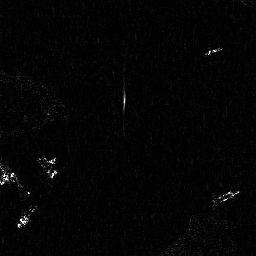ship: (205, 188, 244, 208), (35, 152, 58, 181), (18, 200, 39, 228), (204, 45, 226, 56)
